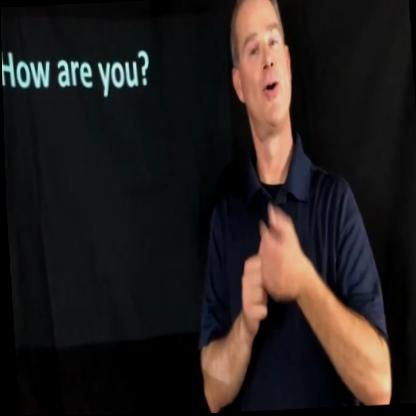HowAreYou: (220, 192, 309, 344)
